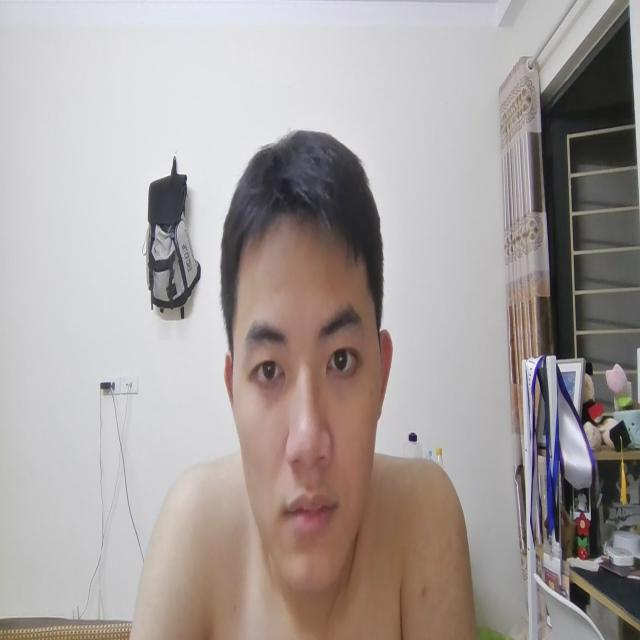student: (132, 126, 473, 640)
